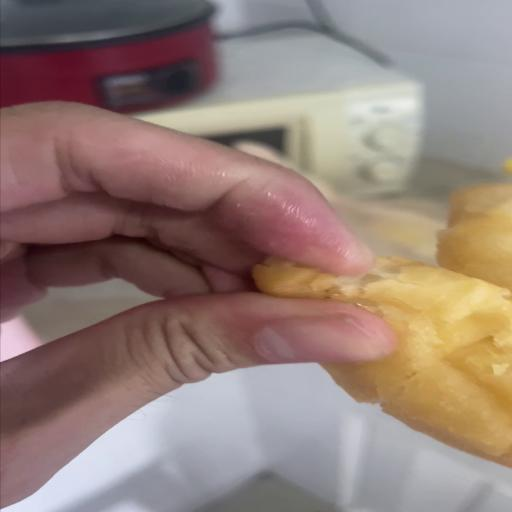street_golden_defect: (256, 152, 512, 468)
